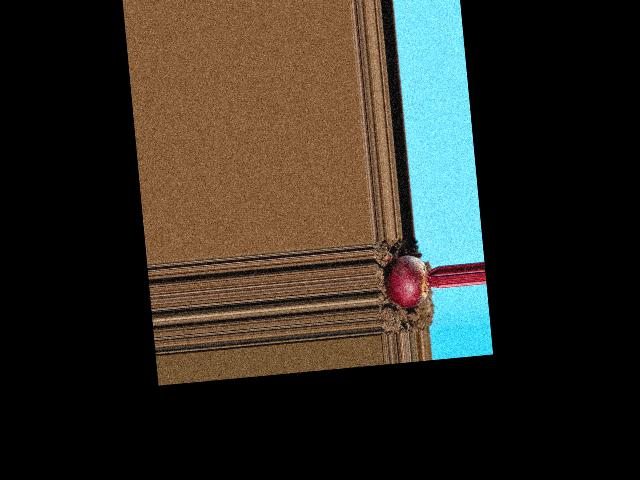beet: (382, 252, 441, 309)
